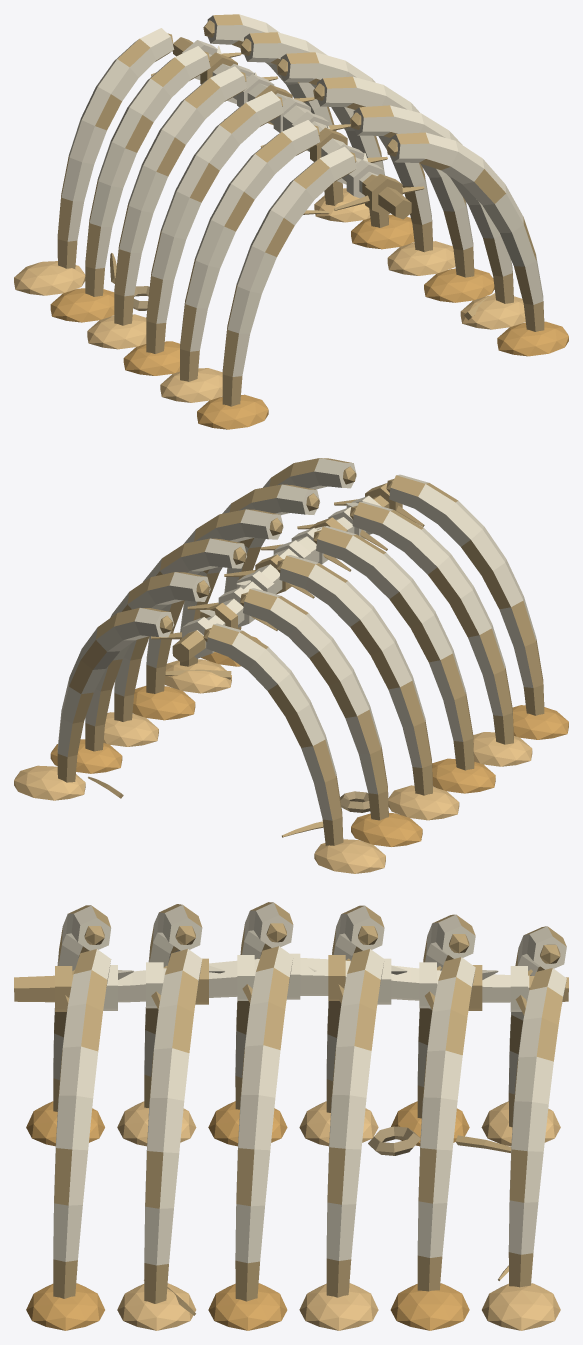
The model's file is whale_ribs.glb.
3 renders of one model, top to bottom at view 1: azimuth 30°, elevation 25°; view 2: azimuth 150°, elevation 25°; view 3: azimuth 270°, elevation 25°, orthographic. The views are drawn at different scales.
Parts seen in each view (by area): view 1: whale_ribs; view 2: whale_ribs; view 3: whale_ribs.
Boxes of the visible parts, x1,y1,x2,y2 form: whale_ribs: [14, 14, 568, 429]; whale_ribs: [14, 458, 568, 873]; whale_ribs: [14, 902, 568, 1330].
Bounding box in the file's own units: 13.4 × 8.04 × 14.01.
